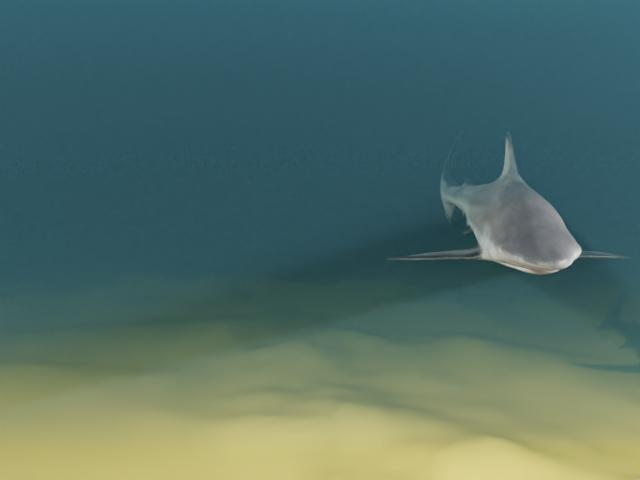Carribean Shark.001: (386, 131, 629, 274)
